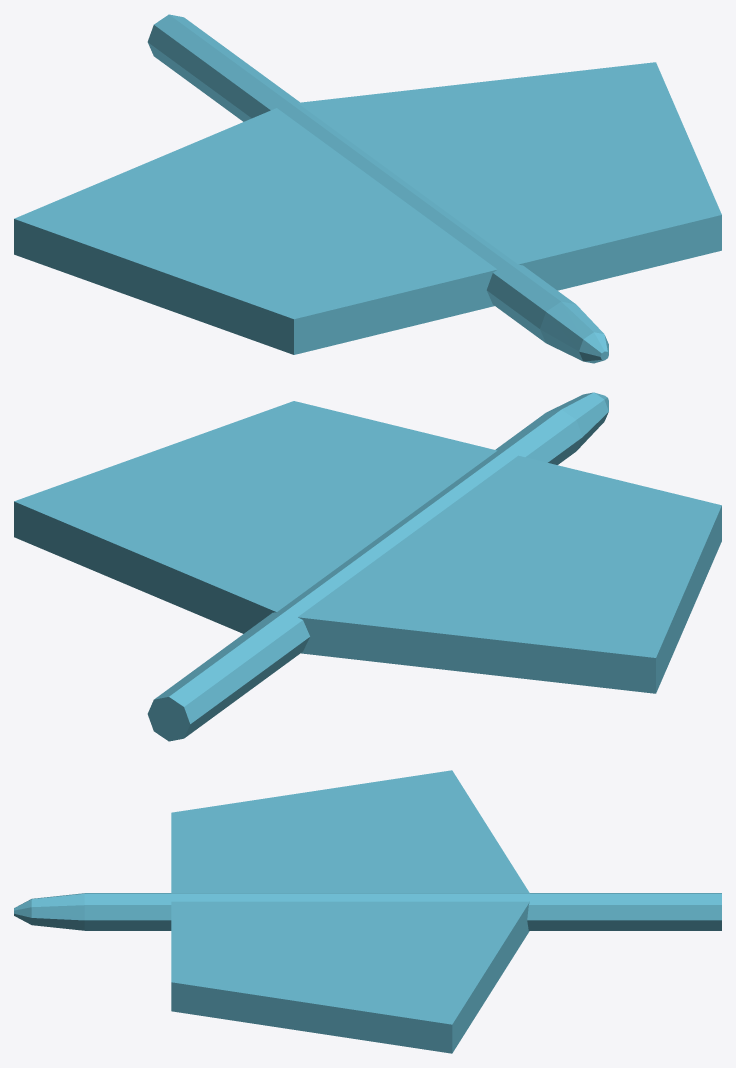
The model's file is blade-axe.lod.glb.
The picture shows the model from 3 angles, top to bottom: view 1: azimuth 30°, elevation 25°; view 2: azimuth 150°, elevation 25°; view 3: azimuth 270°, elevation 25°; orthographic projection. The views are drawn at different scales.
Parts seen in each view (by area): view 1: m; view 2: m; view 3: m.
Part boxes in pixels (bbox=[...]): m: bbox=[14, 14, 721, 363]; m: bbox=[14, 392, 721, 741]; m: bbox=[14, 770, 721, 1053].
Size of the model in its own units: 0.15 by 0.00999 by 0.1764.
